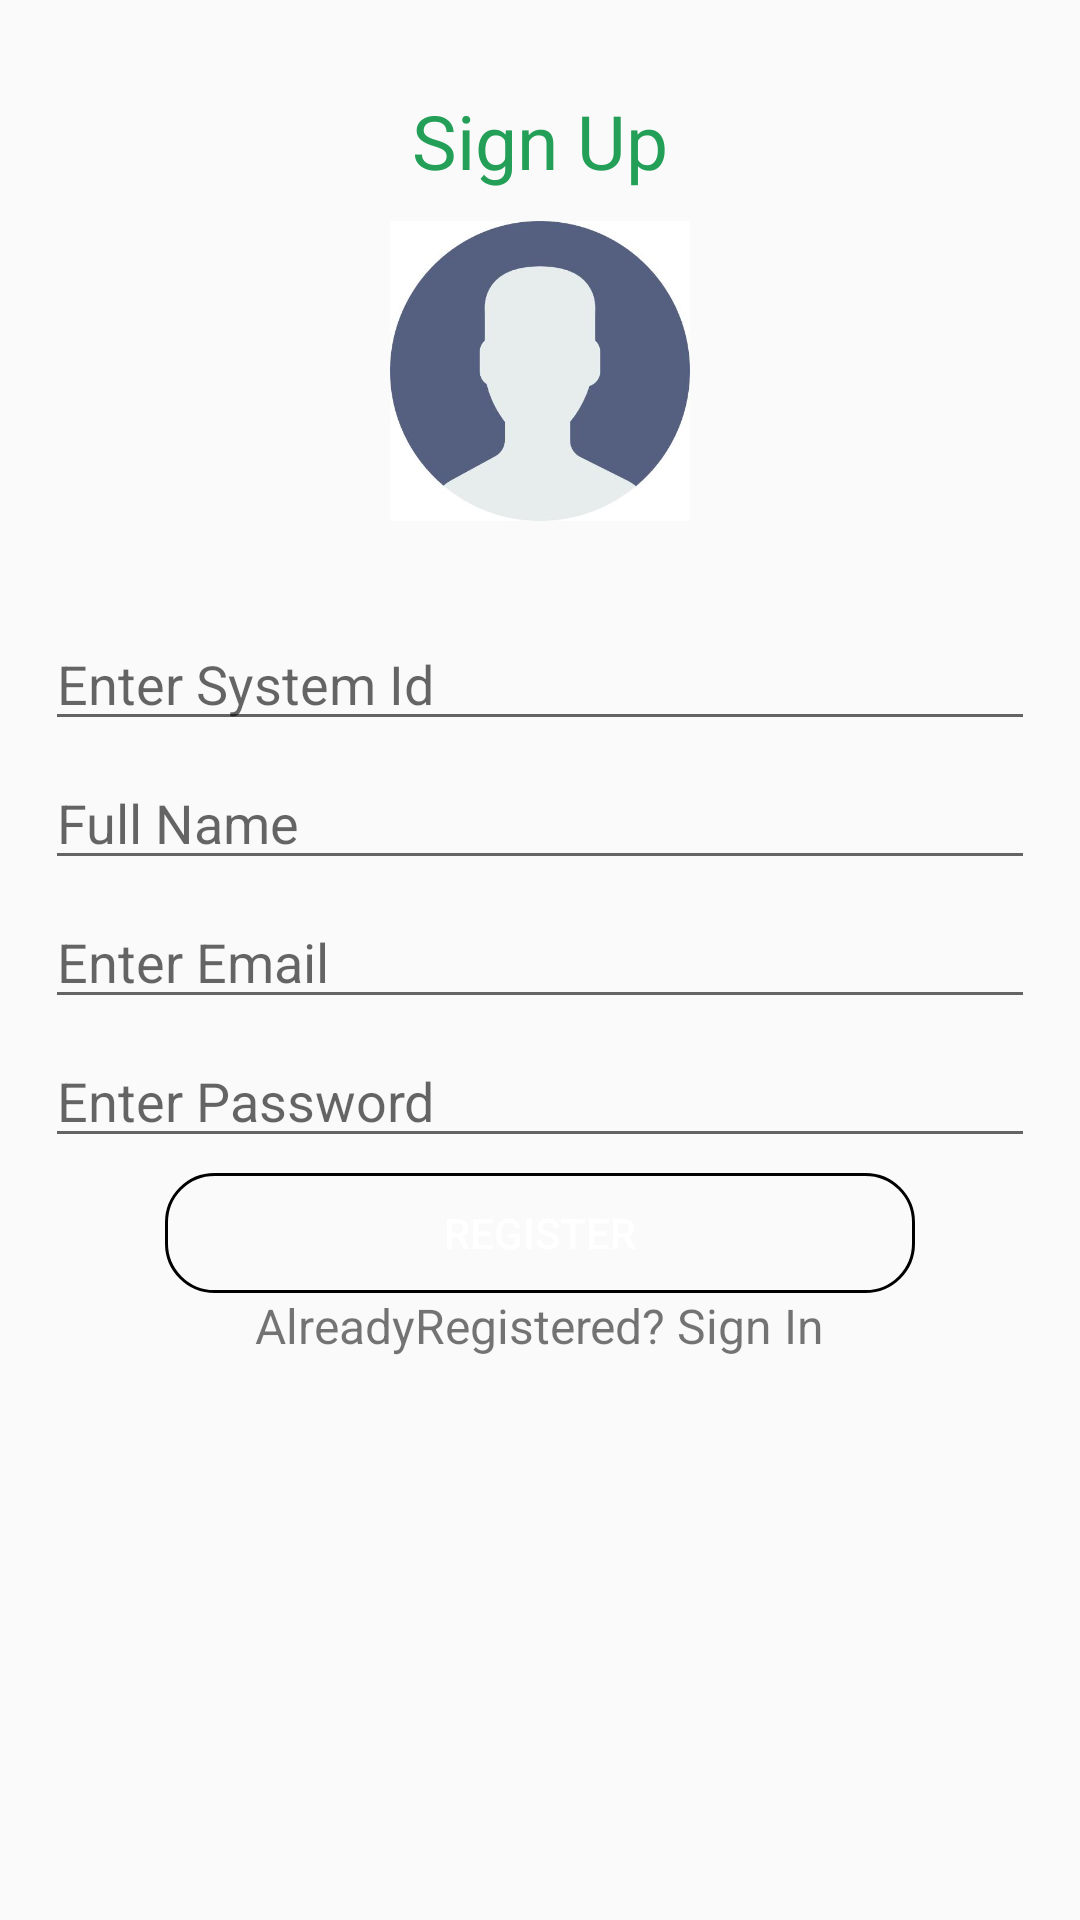

Icons on this 1080px x 1920px Android screen, each with the point to tap as point (x, y):
usericon: point (540, 370)
